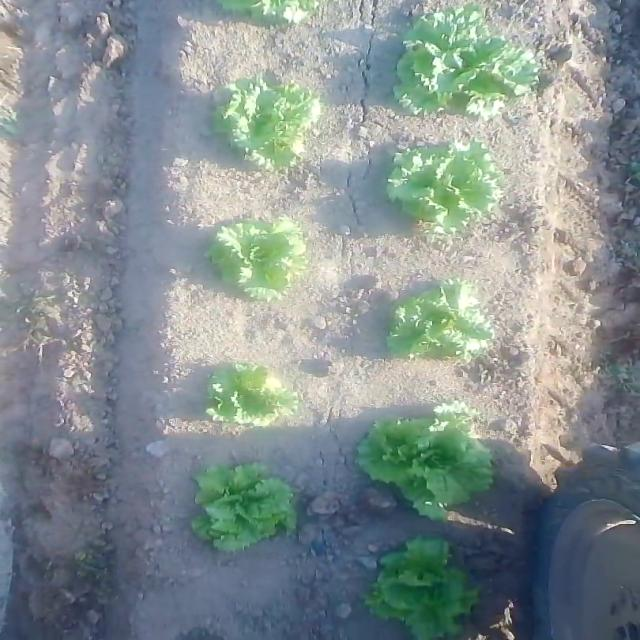Lettuce-Ready-to-Harvest: (368, 414, 498, 518), (188, 459, 304, 557), (212, 75, 320, 172), (212, 206, 313, 302)
